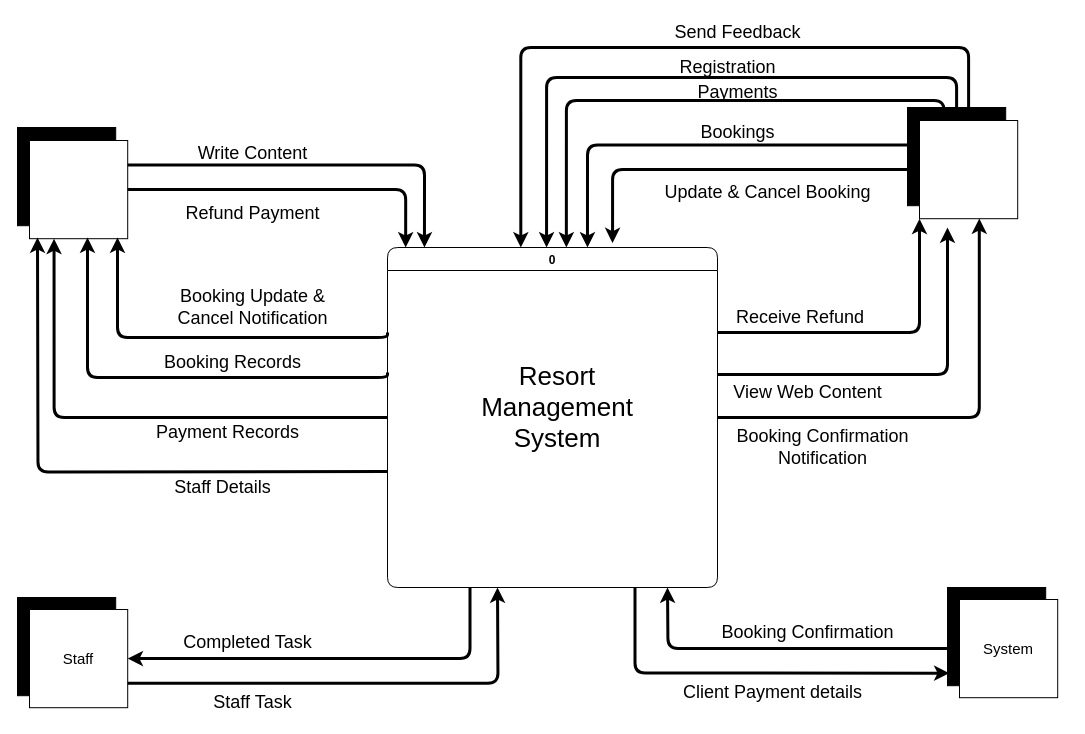
This 1085x734 diagram has some shape labels left out. The shapes that lost their labels are listed below. From the top down, each one's centre as x and y in pixels, then its label:
At point (78, 189): "Administrator".
At point (968, 169): "Client".
